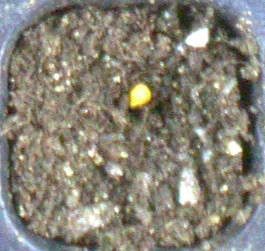pepper seed: (52, 29, 205, 137)
